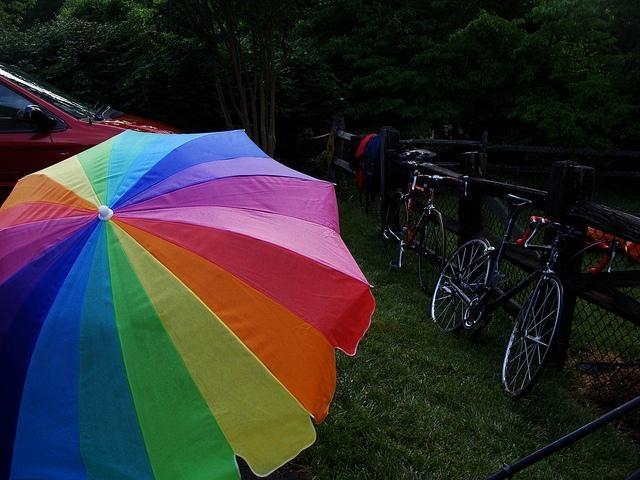bicycle: (430, 193, 621, 402), (385, 145, 447, 286)
car: (2, 64, 184, 204)
